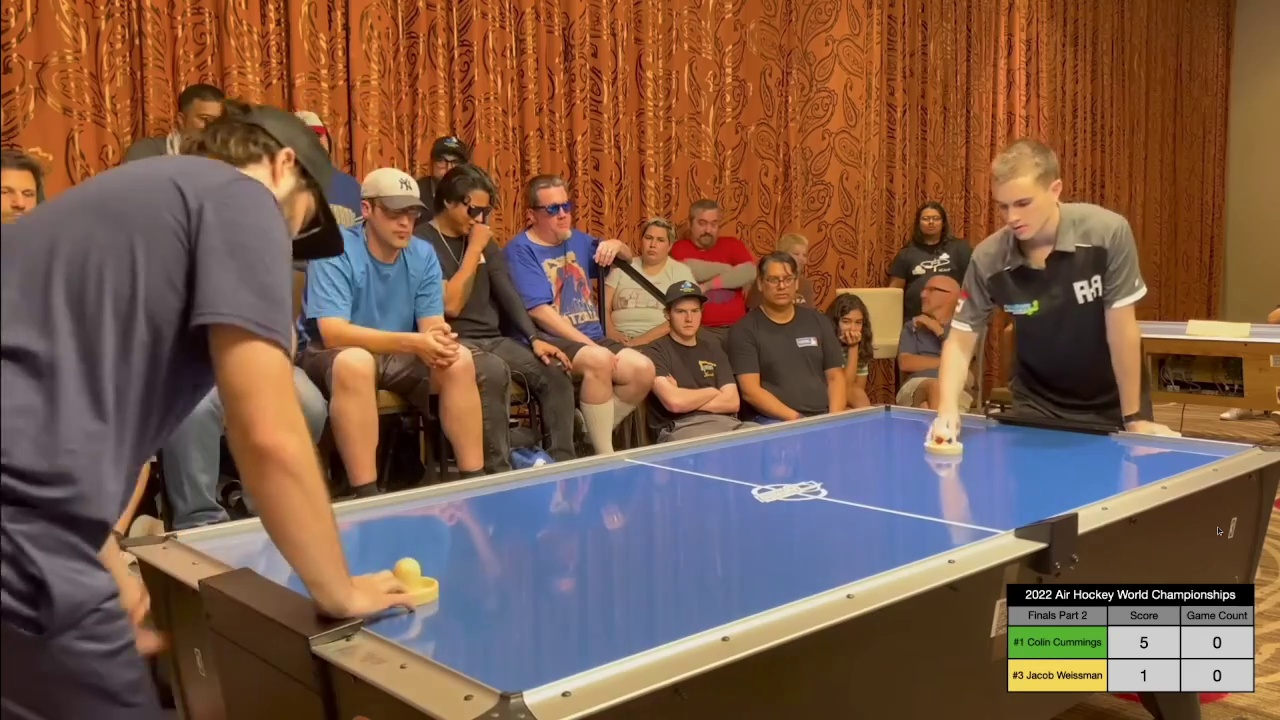player: (383, 557, 441, 610), (921, 420, 967, 460)
table: (168, 402, 1280, 681)
